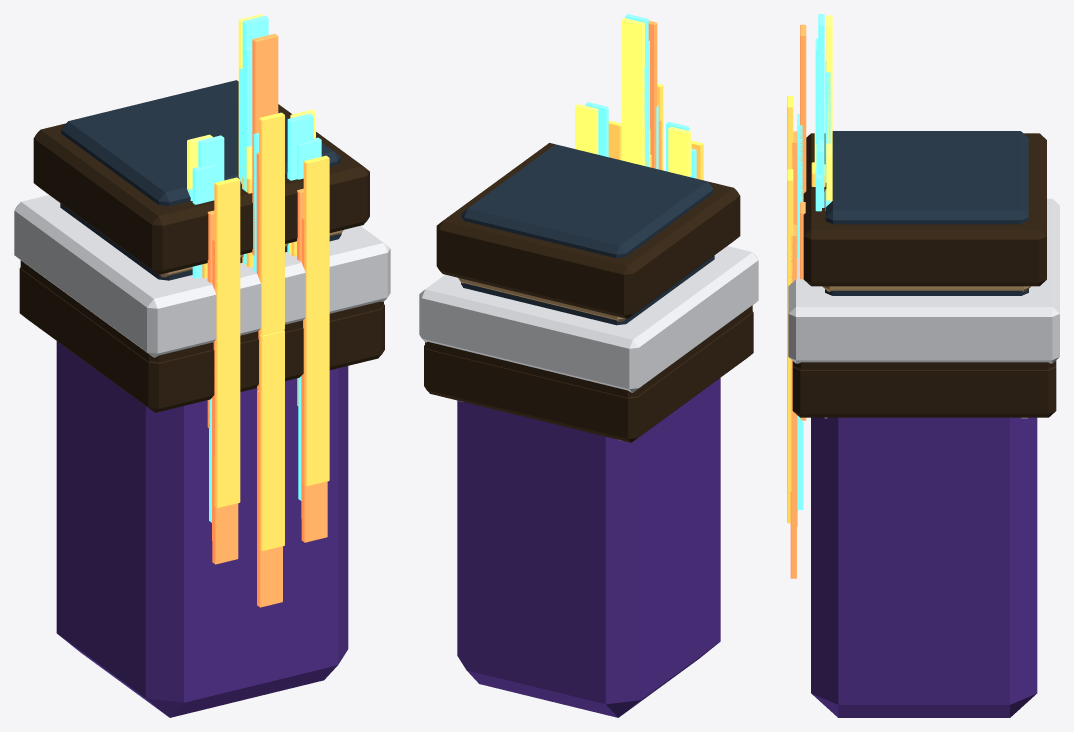
Rendered from flagship_props_029.glb.
The picture shows the model from 3 angles, left to right: view 1: azimuth 30°, elevation 25°; view 2: azimuth 150°, elevation 25°; view 3: azimuth 270°, elevation 25°; orthographic projection. The views are drawn at different scales.
Parts seen in each view (by area): view 1: Prop_BBIsle_Windmill_01, Prop_BBIsle_Windmill_03, Prop_BBIsle_Windmill_08, Prop_BBIsle_Windmill_07, Prop_BBIsle_Windmill_05, Prop_BBIsle_Windmill_12, Prop_BBIsle_Windmill_13, Prop_BBIsle_Windmill_02, Prop_BBIsle_Windmill_04; view 2: Prop_BBIsle_Windmill_01, Prop_BBIsle_Windmill_08, Prop_BBIsle_Windmill_07, Prop_BBIsle_Windmill_03, Prop_BBIsle_Windmill_04, Prop_BBIsle_Windmill_13, Prop_BBIsle_Windmill_12, Prop_BBIsle_Windmill_05; view 3: Prop_BBIsle_Windmill_01, Prop_BBIsle_Windmill_08, Prop_BBIsle_Windmill_07, Prop_BBIsle_Windmill_03, Prop_BBIsle_Windmill_13, Prop_BBIsle_Windmill_05, Prop_BBIsle_Windmill_12, Prop_BBIsle_Windmill_02, Prop_BBIsle_Windmill_04, Prop_BBIsle_Windmill_00.
Boxes of the visible parts, x1=… form: Prop_BBIsle_Windmill_01: x1=14, y1=112, x2=390, y2=717; Prop_BBIsle_Windmill_03: x1=19, y1=175, x2=384, y2=607; Prop_BBIsle_Windmill_08: x1=33, y1=33, x2=369, y2=428; Prop_BBIsle_Windmill_07: x1=61, y1=15, x2=340, y2=251; Prop_BBIsle_Windmill_05: x1=159, y1=47, x2=343, y2=278; Prop_BBIsle_Windmill_12: x1=60, y1=113, x2=341, y2=280; Prop_BBIsle_Windmill_13: x1=20, y1=152, x2=383, y2=540; Prop_BBIsle_Windmill_02: x1=209, y1=133, x2=301, y2=522; Prop_BBIsle_Windmill_04: x1=187, y1=14, x2=315, y2=193; Prop_BBIsle_Windmill_01: x1=419, y1=83, x2=758, y2=717; Prop_BBIsle_Windmill_08: x1=436, y1=20, x2=740, y2=318; Prop_BBIsle_Windmill_07: x1=461, y1=14, x2=713, y2=258; Prop_BBIsle_Windmill_03: x1=424, y1=139, x2=753, y2=442; Prop_BBIsle_Windmill_04: x1=575, y1=18, x2=691, y2=176; Prop_BBIsle_Windmill_13: x1=425, y1=119, x2=752, y2=397; Prop_BBIsle_Windmill_12: x1=461, y1=69, x2=714, y2=325; Prop_BBIsle_Windmill_05: x1=458, y1=41, x2=696, y2=321; Prop_BBIsle_Windmill_01: x1=787, y1=96, x2=1059, y2=717; Prop_BBIsle_Windmill_08: x1=800, y1=24, x2=1046, y2=420; Prop_BBIsle_Windmill_07: x1=818, y1=14, x2=1028, y2=224; Prop_BBIsle_Windmill_03: x1=790, y1=163, x2=1056, y2=578; Prop_BBIsle_Windmill_13: x1=792, y1=131, x2=1055, y2=526; Prop_BBIsle_Windmill_05: x1=815, y1=38, x2=1030, y2=291; Prop_BBIsle_Windmill_12: x1=818, y1=78, x2=1028, y2=295; Prop_BBIsle_Windmill_02: x1=797, y1=114, x2=803, y2=509; Prop_BBIsle_Windmill_04: x1=826, y1=15, x2=832, y2=203; Prop_BBIsle_Windmill_00: x1=825, y1=61, x2=830, y2=210.
Bounding box in the file's own units: 2.6 × 6.99 × 2.61.
